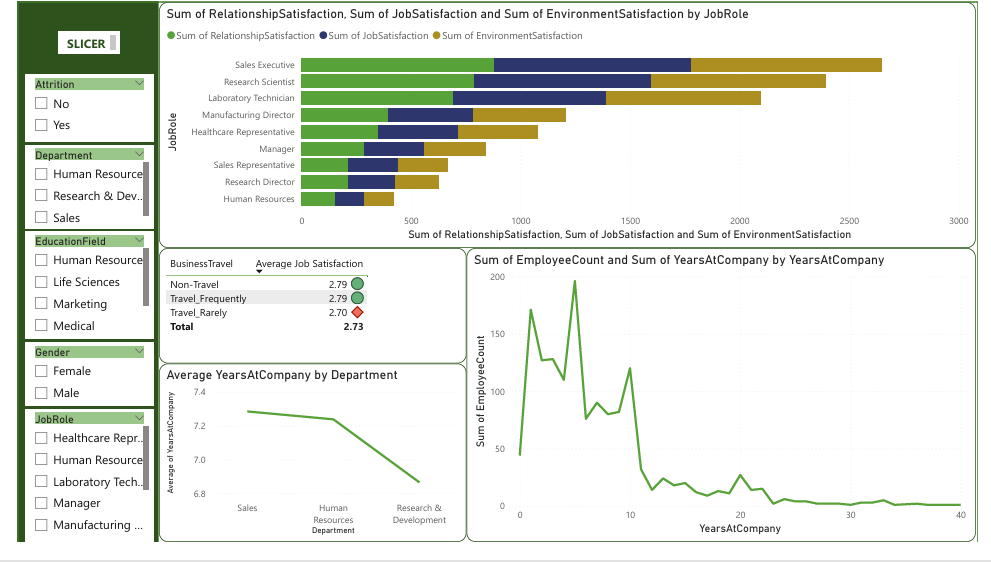

This screenshot's page, from the dashboard's own definition file:
{"tool":"powerbi","page":{"name":"Page 3","canvas":[1280,720],"ordinal":2},"visuals":[{"type":"shape","box":[154.5,0,1125.5,720.6],"z":0},{"type":"barChart","fields":{"Y":["Sum(HR Analytics Data.RelationshipSatisfaction)","Sum(HR Analytics Data.JobSatisfaction)","Sum(HR Analytics Data.EnvironmentSatisfaction)"],"Category":["HR Analytics Data.JobRole"]},"box":[188.3,0,1088.3,328.3],"z":1000},{"type":"lineChart","title":"Average YearsAtCompany by Department","fields":{"Category":["HR Analytics Data.Department"],"Y":["Avg(HR Analytics Data.YearsAtCompany)"]},"box":[188.3,481.7,410,238.3],"z":2000},{"type":"lineChart","fields":{"Category":["HR Analytics Data.YearsAtCompany"],"Y":["Sum(HR Analytics Data.EmployeeCount)"]},"box":[598.3,328.3,678.3,391.7],"z":3000},{"type":"pivotTable","fields":{"Values":["HR Analytics Data.Average Job Satisfaction"],"Rows":["HR Analytics Data.BusinessTravel"]},"box":[188.3,328.3,410,153.3],"z":4000},{"type":"shape","box":[0,0,188,720.6],"z":5000},{"type":"slicer","fields":{"Values":["HR Analytics Data.Department"]},"box":[10,191.2,171.2,111.2],"z":6000},{"type":"slicer","fields":{"Values":["HR Analytics Data.EducationField"]},"box":[10,306.2,171.2,143.8],"z":7000},{"type":"slicer","fields":{"Values":["HR Analytics Data.Gender"]},"box":[10,453.8,171.2,85],"z":8000},{"type":"slicer","fields":{"Values":["HR Analytics Data.JobRole"]},"box":[10,542.5,171.2,177.5],"z":9000},{"type":"textbox","box":[54.3,40,81.4,30],"z":10000},{"type":"slicer","fields":{"Values":["HR Analytics Data.Attrition"]},"box":[10,97.1,171.4,90],"z":11000}]}

Visuals, with their boxes in screenshot pixels (x1, y1, x2, y2), scaled from the page's 1280x720 canvas onto the 991x562 screenshot:
shape: 120/0/990/561
barChart - Sum(HR Analytics Data.RelationshipSatisfaction) x Sum(HR Analytics Data.JobSatisfaction): 146/0/988/256
"Average YearsAtCompany by Department" lineChart: 146/376/463/561
lineChart - HR Analytics Data.YearsAtCompany x Sum(HR Analytics Data.EmployeeCount): 463/256/988/561
pivotTable - HR Analytics Data.Average Job Satisfaction x HR Analytics Data.BusinessTravel: 146/256/463/376
shape: 0/0/146/561
slicer - HR Analytics Data.Department: 8/149/140/236
slicer - HR Analytics Data.EducationField: 8/239/140/351
slicer - HR Analytics Data.Gender: 8/354/140/421
slicer - HR Analytics Data.JobRole: 8/423/140/561
textbox: 42/31/105/55
slicer - HR Analytics Data.Attrition: 8/76/140/146
